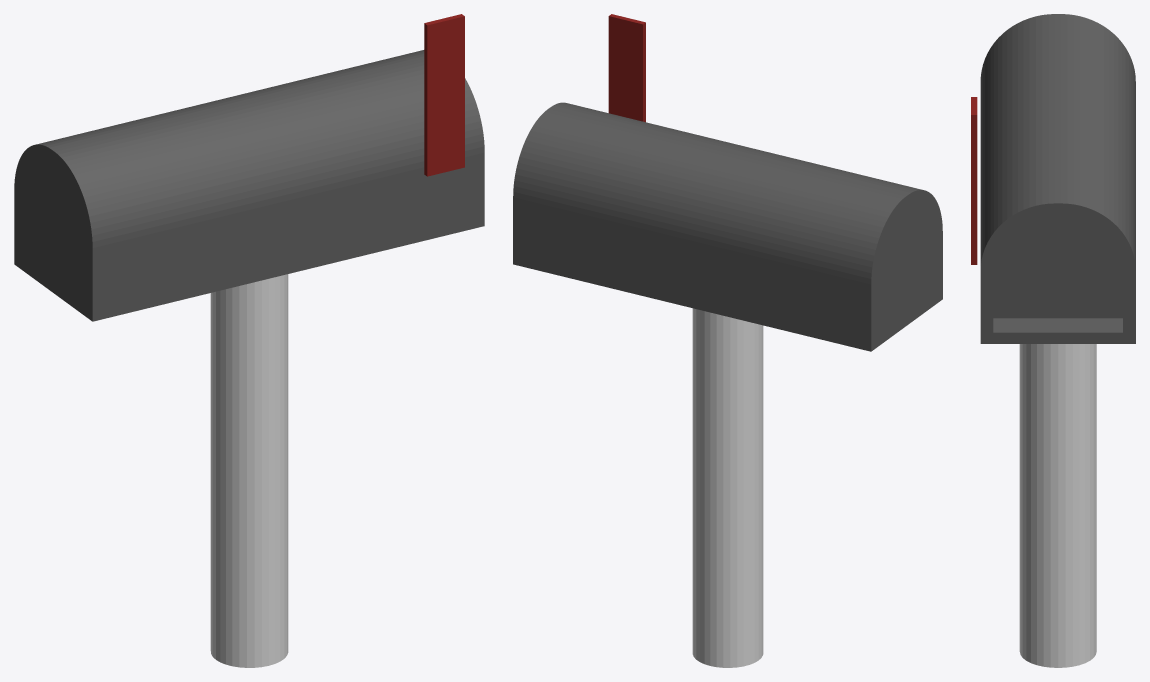
The model's file is Mailboxes.fbx.
The picture shows the model from 3 angles, left to right: view 1: azimuth 30°, elevation 25°; view 2: azimuth 150°, elevation 25°; view 3: azimuth 270°, elevation 25°; orthographic projection. The views are drawn at different scales.
Parts seen in each view (by area): view 1: Middle, Base, Top; view 2: Middle, Base, Top; view 3: Middle, Base, Top.
Part boxes in pixels (x1=…): Middle: x1=14, y1=50, x2=484, y2=321; Base: x1=210, y1=274, x2=288, y2=667; Top: x1=424, y1=14, x2=464, y2=176; Middle: x1=513, y1=102, x2=942, y2=351; Base: x1=692, y1=308, x2=763, y2=667; Top: x1=608, y1=14, x2=645, y2=122; Middle: x1=980, y1=14, x2=1135, y2=343; Base: x1=1019, y1=344, x2=1096, y2=667; Top: x1=971, y1=97, x2=977, y2=264.
Bounding box in the file's own units: 94.89 × 145 × 34.87.
